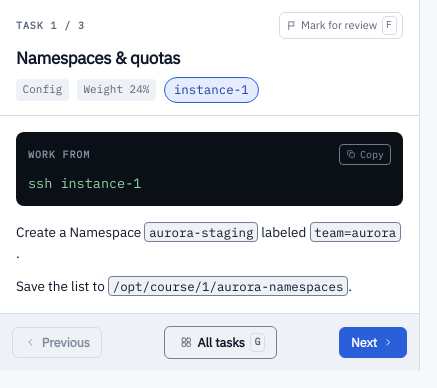
Test case: QuestionPanel jump grid › every question is reachable at once
The image size is (437, 388).
Click the button named "show all questions" at (220,342), box [164,326,277,359]
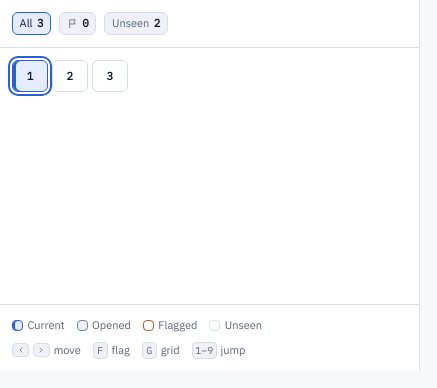
Expected: the button "1" is shown, [12,60,48,92]
Expected: the button "2" is shown, [52,60,88,92]
Expected: the button "3" is shown, [92,60,128,92]
